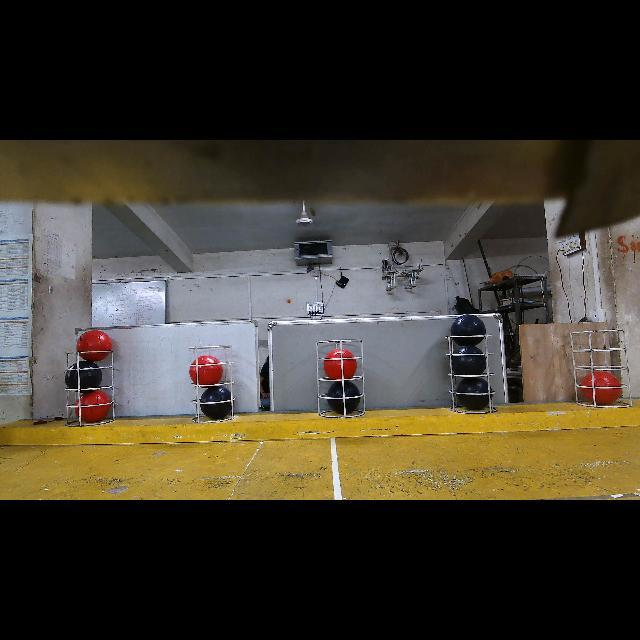P: (458, 376, 495, 411), (65, 360, 102, 392), (328, 381, 361, 415), (451, 314, 486, 346), (200, 386, 231, 420), (451, 345, 485, 375)
R: (581, 370, 621, 405), (75, 390, 111, 422), (76, 330, 112, 361), (324, 349, 358, 380), (190, 355, 222, 385)
S: (568, 326, 632, 418), (441, 328, 504, 416), (62, 348, 118, 428), (316, 336, 368, 418), (186, 344, 232, 431)
